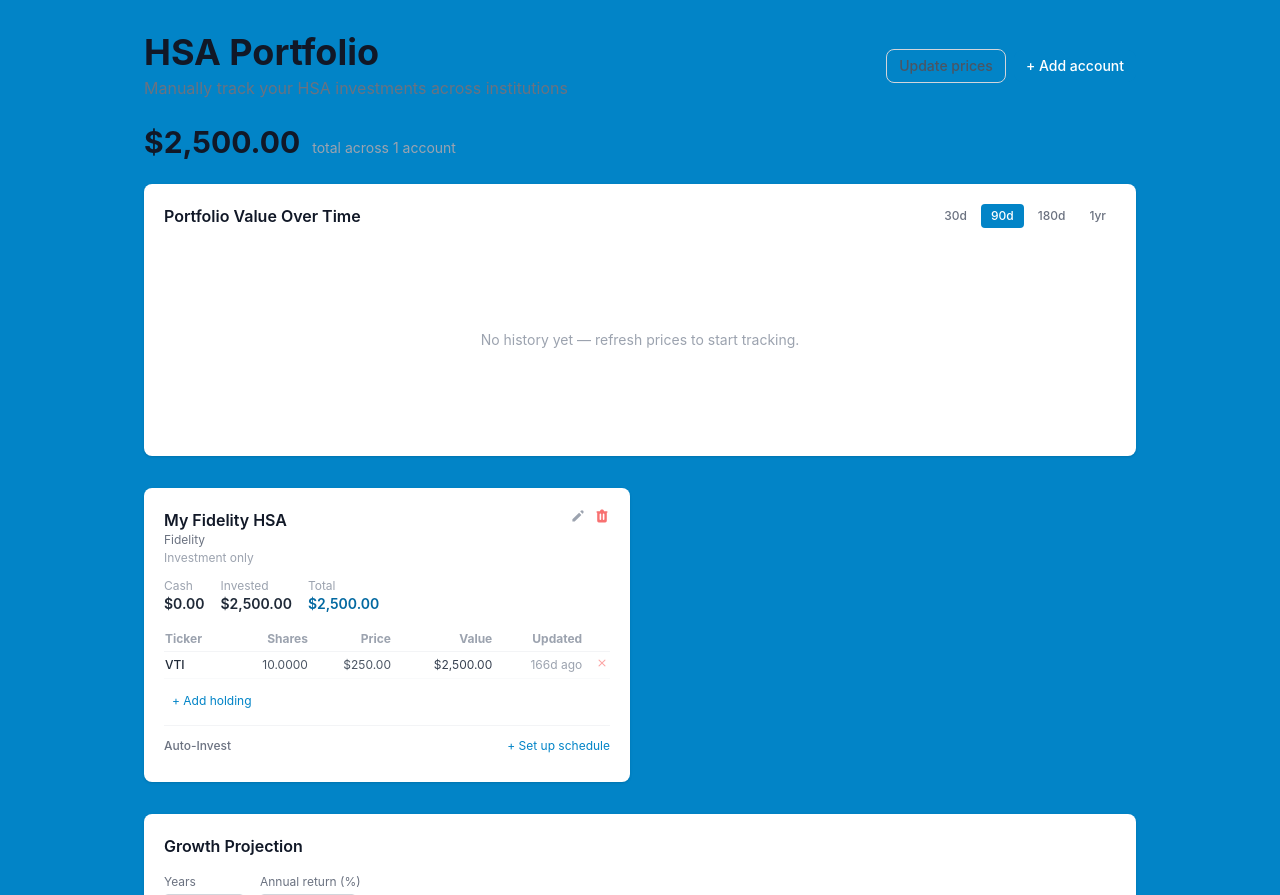
Scenario: Portfolio page › total portfolio value updates immediately after editing shares
The width and height of the screenshot is (1280, 895).
Expected: the text "VTI" is shown, [164,652,229,678]
Expected: the element with test id "portfolio-total" shows "$2,500.00", [144,124,300,160]
Click the button named "edit shares for vti": [285, 665] box [262,657,308,673]
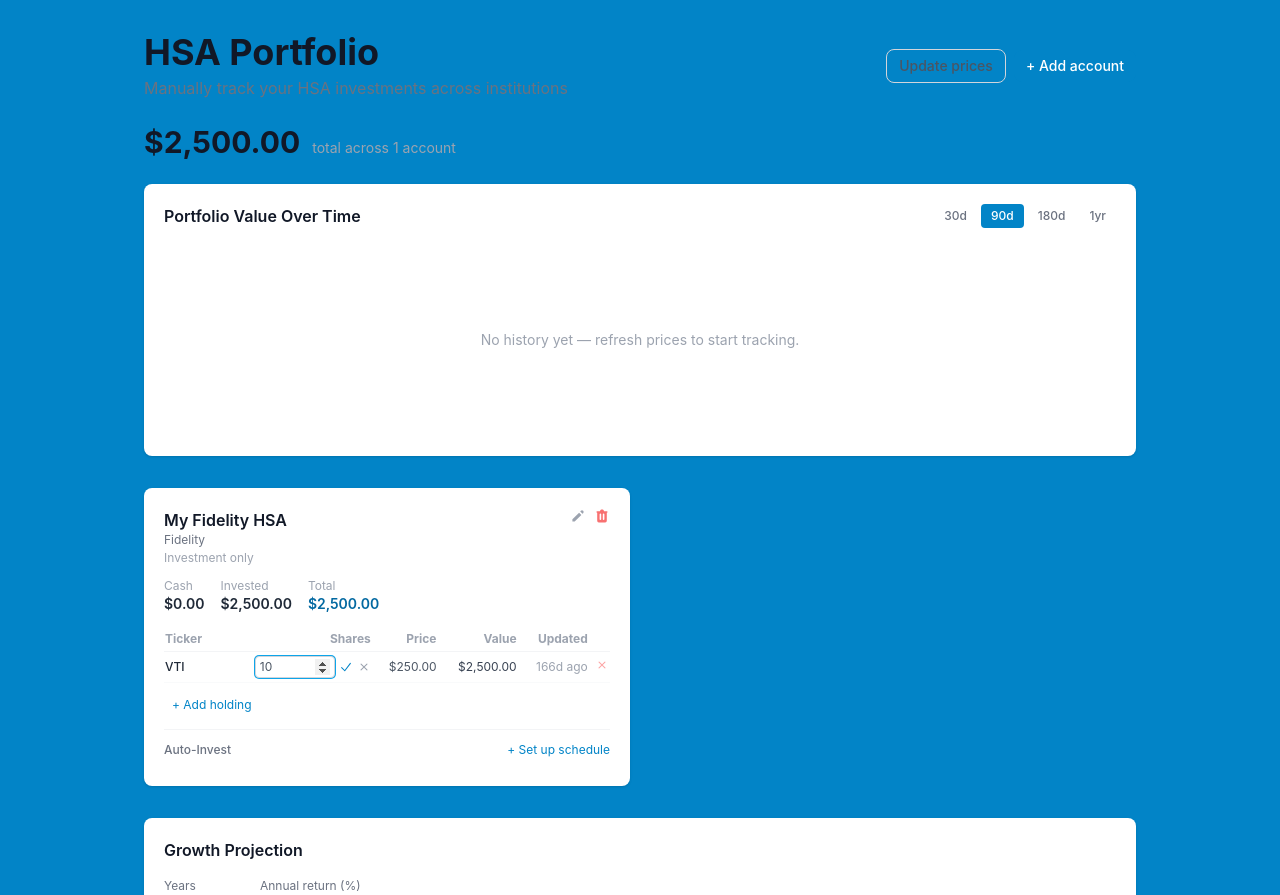
Replace the text in the number field named "shares for vti" with "20": [295, 667] box [255,656,335,678]
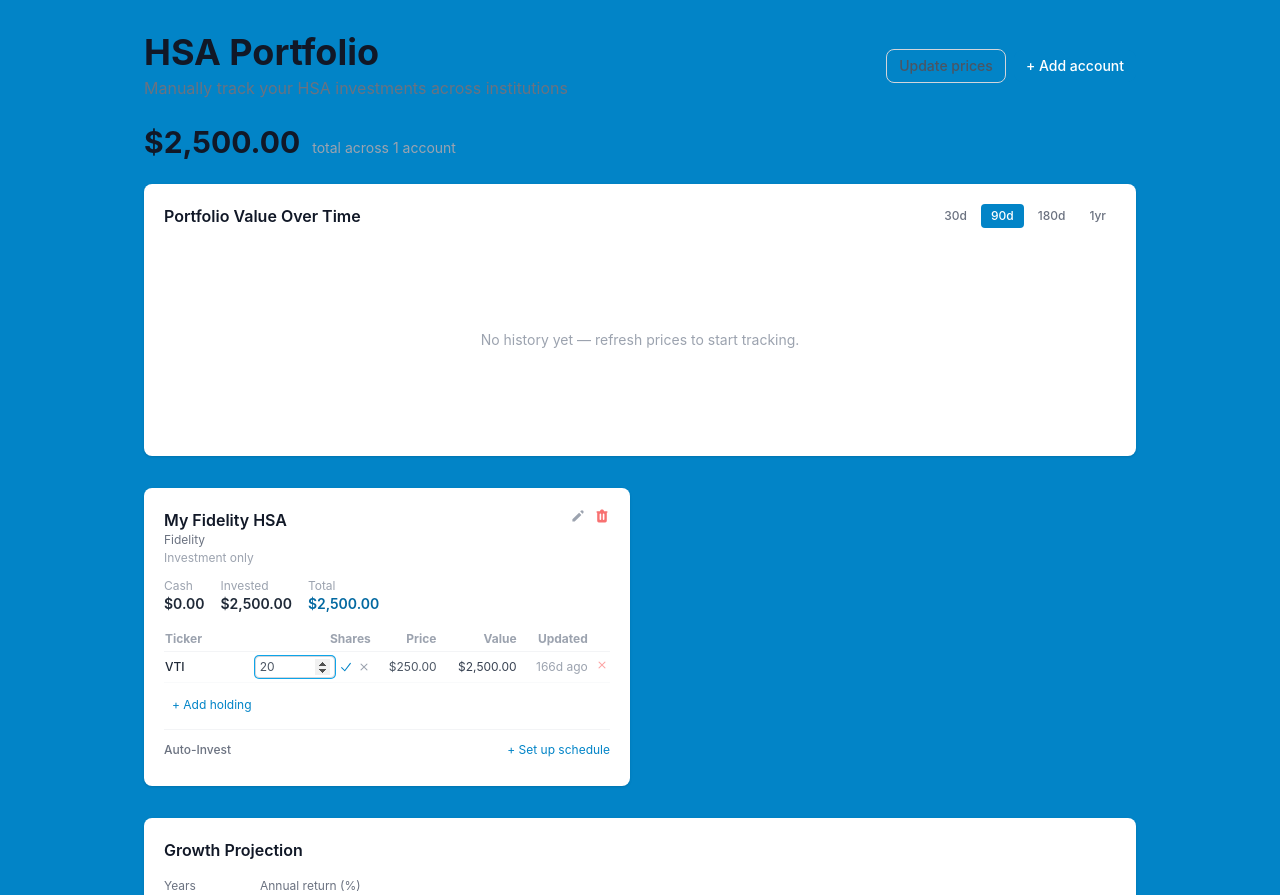
Click the button named "Save": [346, 667] box [339,660,353,674]
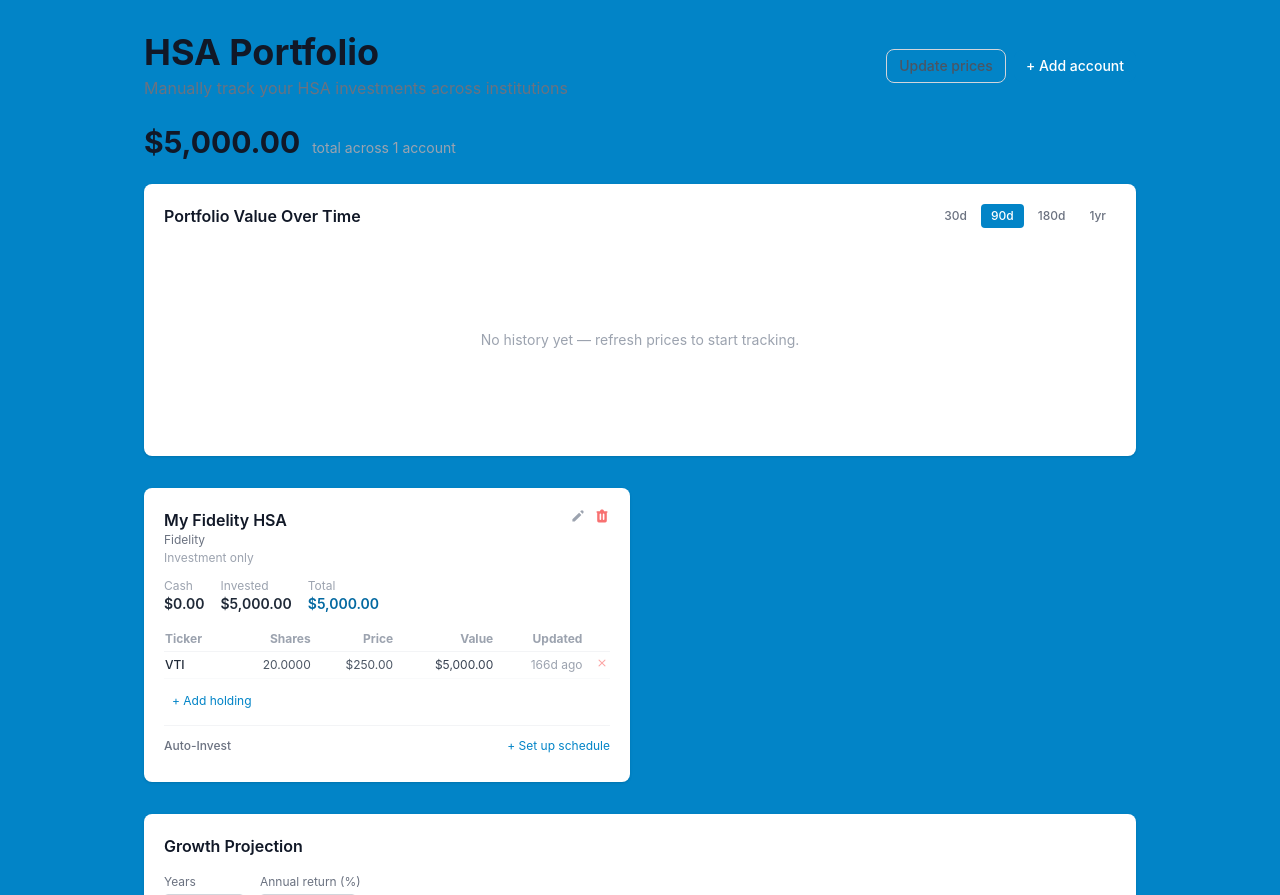
Now the element with test id "portfolio-total" shows "$5,000.00", box [144,124,300,160]
